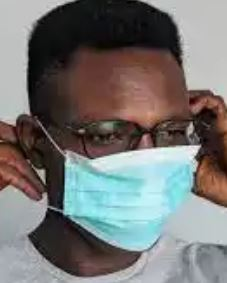with_facemask: (69, 151, 200, 254)
